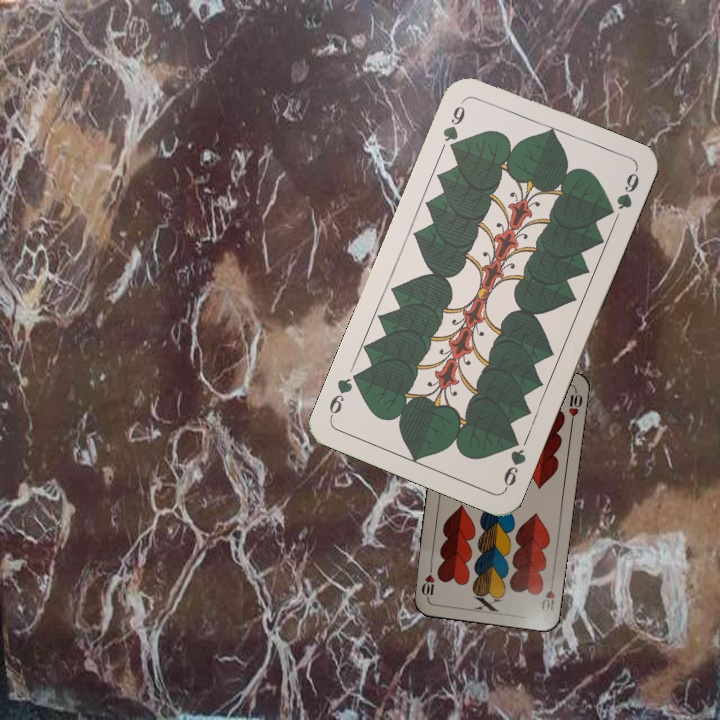G9: (499, 432, 529, 492), (439, 96, 468, 155)
H10: (537, 575, 557, 614)
